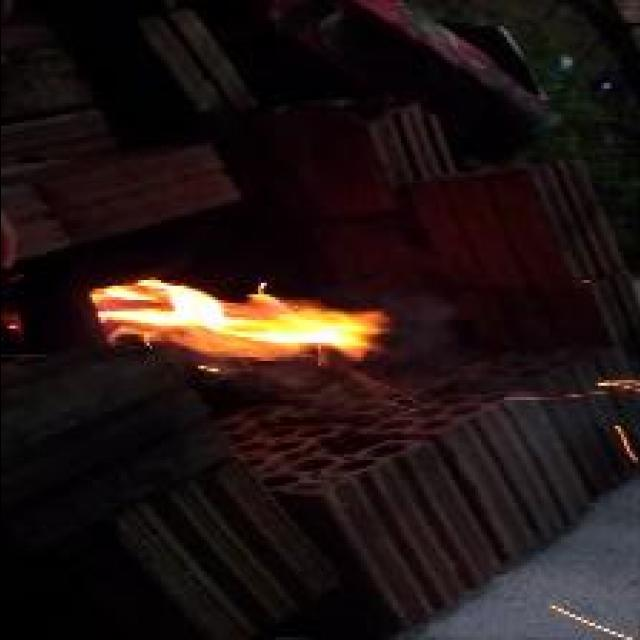Fire: (90, 278, 390, 358)
